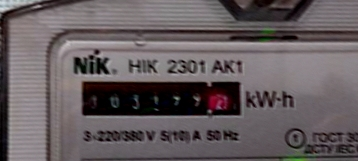0: (84, 90, 98, 110), (107, 89, 119, 109)
1: (148, 86, 159, 105)
3: (128, 91, 139, 110)
6: (212, 96, 223, 113)
9: (189, 89, 201, 108), (169, 88, 180, 106)
screen: (71, 60, 249, 138)
